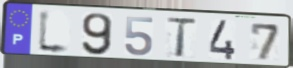4: (208, 19, 237, 61)
5: (124, 15, 155, 57)
7: (249, 22, 282, 61)
9: (80, 12, 114, 57)
L: (36, 8, 72, 57)
T: (164, 17, 199, 60)
